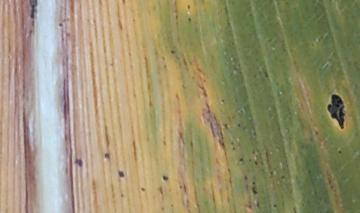tarspot: (327, 93, 346, 131), (30, 1, 38, 19), (117, 168, 125, 179), (250, 185, 258, 196), (74, 158, 83, 167), (335, 145, 343, 155), (138, 185, 146, 193), (242, 172, 249, 181), (57, 20, 64, 28), (103, 151, 110, 159), (169, 47, 176, 55), (238, 155, 245, 163), (253, 159, 260, 167), (271, 201, 278, 209), (250, 177, 256, 186), (256, 199, 261, 209), (222, 122, 229, 129), (119, 191, 125, 199), (161, 175, 169, 181), (186, 15, 192, 23), (230, 145, 237, 151), (186, 2, 191, 10), (220, 96, 225, 103), (247, 204, 253, 209), (238, 121, 241, 128)
